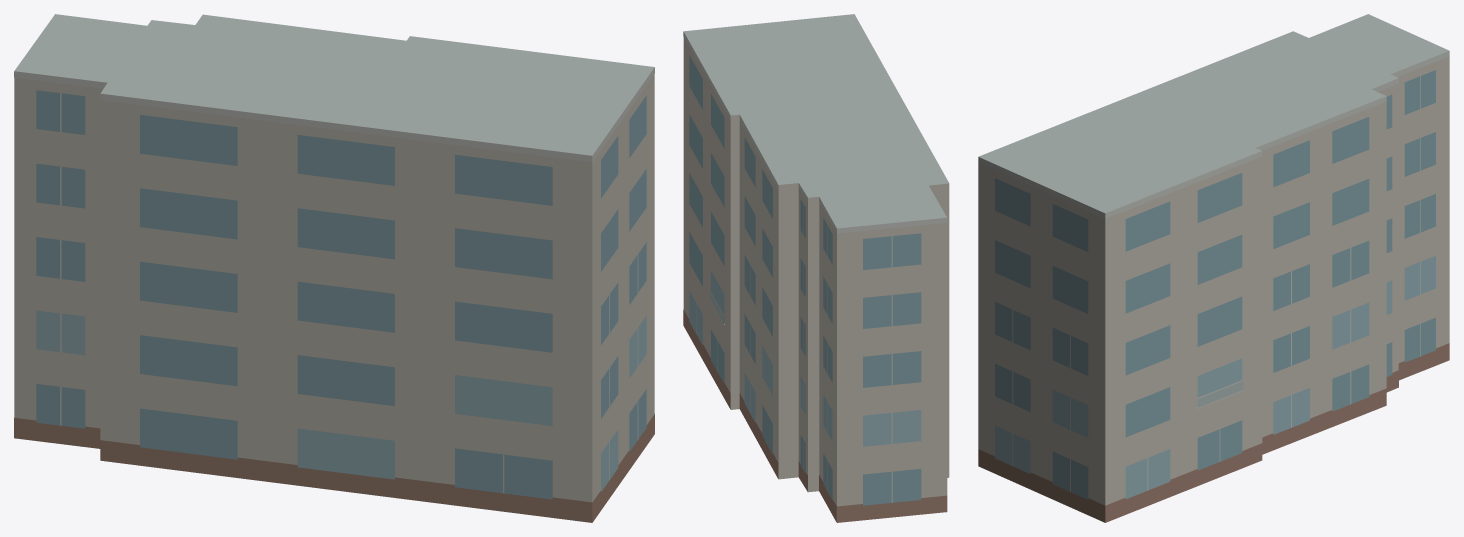
Rendered from survey-upis-32940395.glb.
3 views of the same model, side by side, from view 1: azimuth 30°, elevation 25°; view 2: azimuth 150°, elevation 25°; view 3: azimuth 270°, elevation 25° (orthographic). The views are drawn at different scales.
Parts seen in each view (by area): view 1: survey-upis-32940395.tmp; view 2: survey-upis-32940395.tmp; view 3: survey-upis-32940395.tmp.
Boxes of the visible parts, x1,y1,x2,y2 form: survey-upis-32940395.tmp: (14,14,654,522); survey-upis-32940395.tmp: (683,14,949,522); survey-upis-32940395.tmp: (978,14,1449,522).
Bounding box in the file's own units: 19.08 × 13.8 × 19.06.
